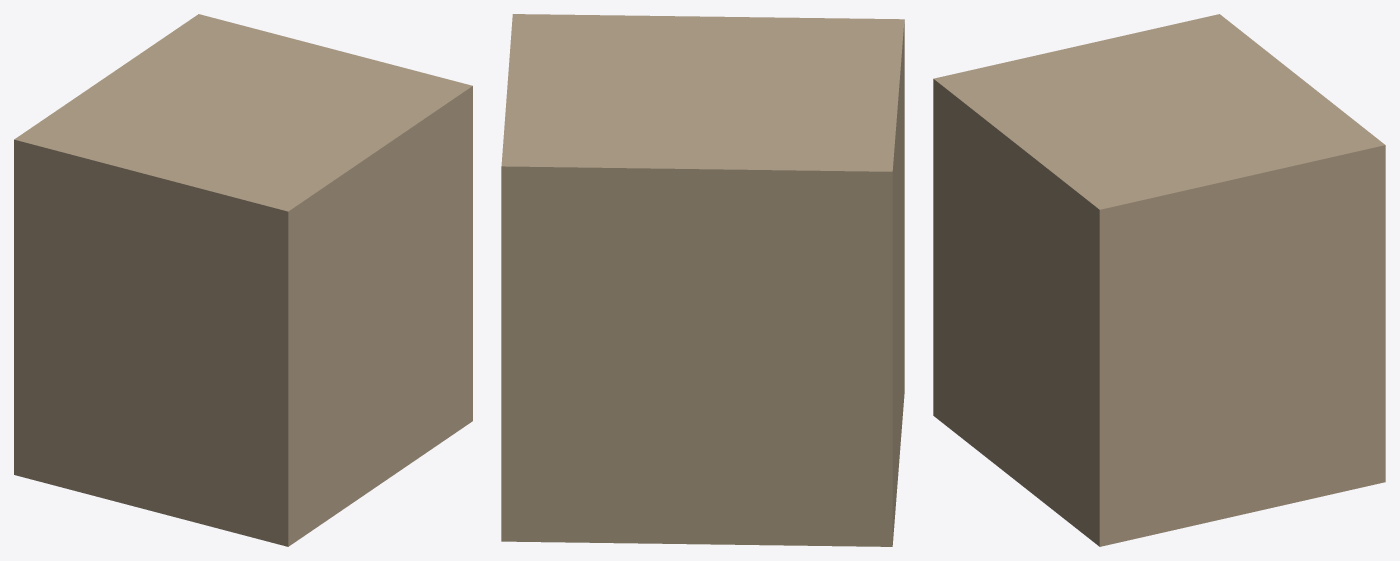
Rendered from bld_107639316.dae.
3 renders of one model, left to right at view 1: azimuth 30°, elevation 25°; view 2: azimuth 150°, elevation 25°; view 3: azimuth 270°, elevation 25°, orthographic. The views are drawn at different scales.
Parts seen in each view (by area): view 1: bld_107639316; view 2: bld_107639316; view 3: bld_107639316.
Part boxes in pixels (x1=…): bld_107639316: x1=14, y1=14, x2=472, y2=546; bld_107639316: x1=501, y1=14, x2=904, y2=546; bld_107639316: x1=933, y1=14, x2=1385, y2=546.
Bounding box in the file's own units: 9.97 × 9.72 × 8.
